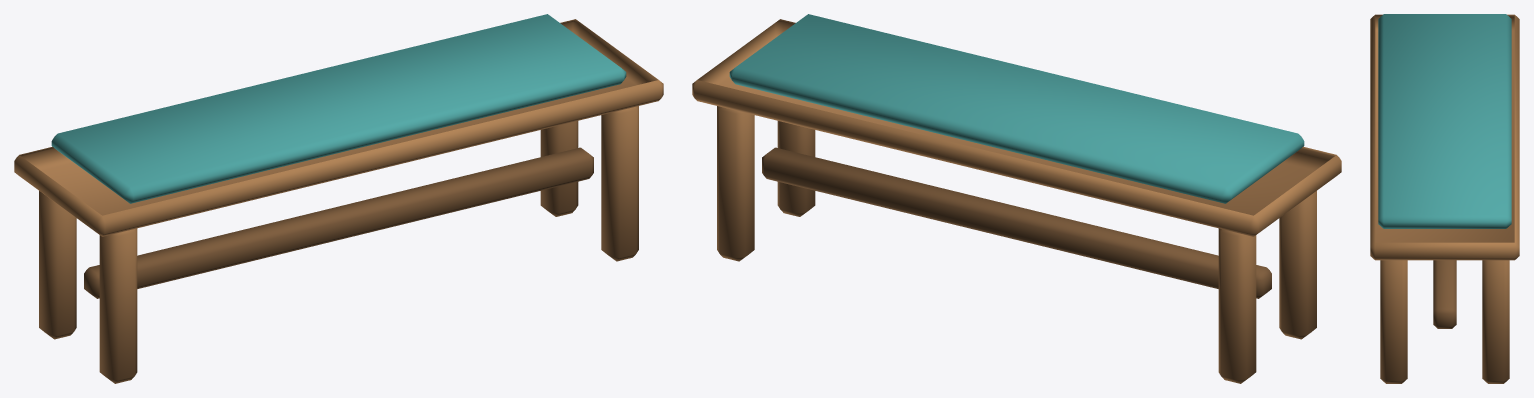
File: DiningBench_01.glb
The picture shows the model from 3 angles, left to right: view 1: azimuth 30°, elevation 25°; view 2: azimuth 150°, elevation 25°; view 3: azimuth 270°, elevation 25°; orthographic projection. The views are drawn at different scales.
Parts seen in each view (by area): view 1: SM_DiningBench_01; view 2: SM_DiningBench_01; view 3: SM_DiningBench_01.
Part boxes in pixels (bbox=[...]): SM_DiningBench_01: bbox=[14, 14, 663, 383]; SM_DiningBench_01: bbox=[692, 14, 1341, 383]; SM_DiningBench_01: bbox=[1370, 14, 1519, 383].
Size of the model in its own units: 1.4 by 0.46 by 0.38.
1 material, 1 textured.
